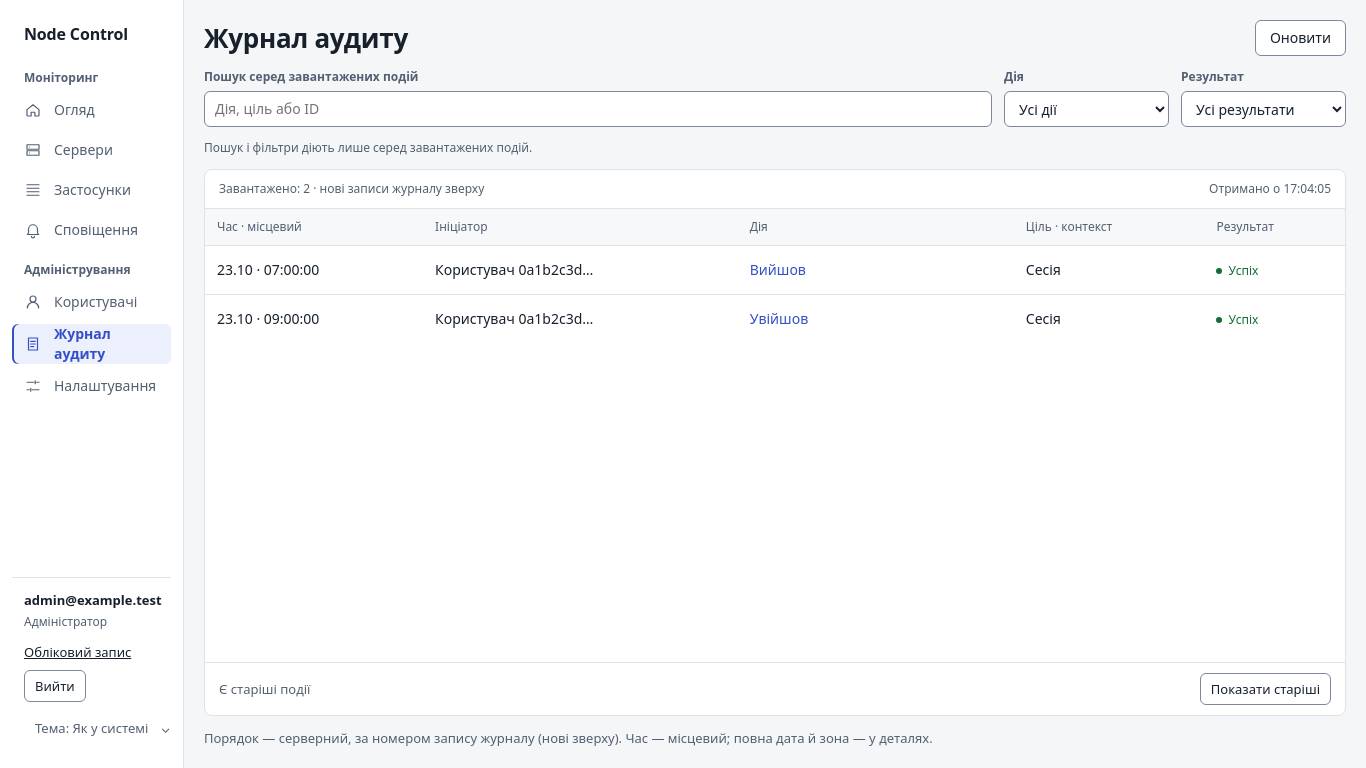
Scenario: order, cursor and older chunks › appends chunks in the server order (by id) even when times disagree; the cursor is the API's; ids above MAX_SAFE_INTEGER stay exact
Click the button "Показати старіші" at (1265, 689), box [1200, 673, 1331, 705]
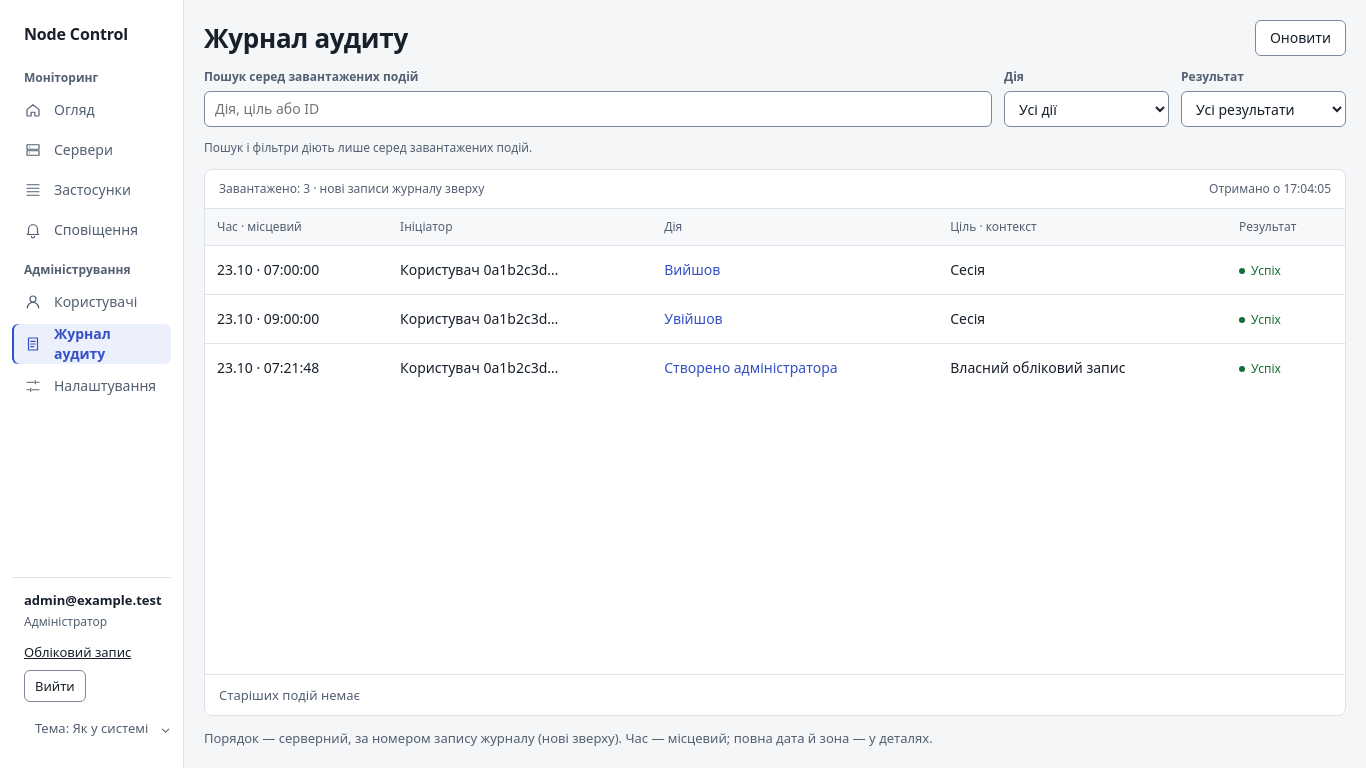
Expected: the text "Старіших подій немає" is shown, [219, 685, 360, 705]
Expected: the button "Показати старіші" is gone
